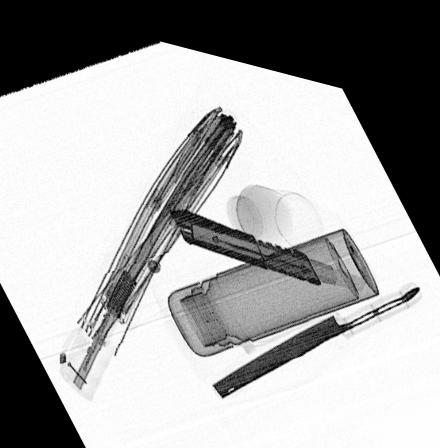Knife: (210, 259, 421, 387), (167, 199, 368, 275)
